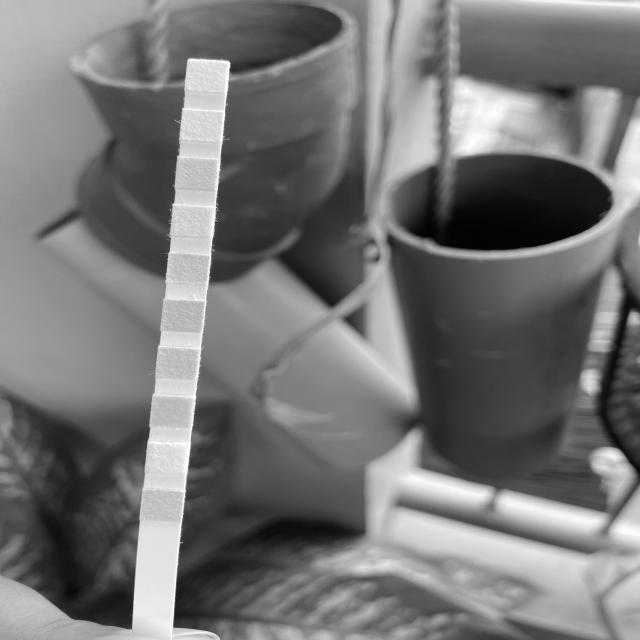Bilirubin: (147, 443, 187, 473)
Blood: (163, 301, 202, 331)
Glucose: (142, 490, 182, 520)
Ketone: (153, 396, 193, 425)
Leukocytes: (187, 62, 228, 92)
Nitrite: (182, 111, 222, 141)
Protein: (173, 206, 213, 236)
SpGravity: (158, 348, 198, 378)
Urobilinogen: (177, 160, 218, 189)
background: (0, 0, 640, 640)
pH: (168, 255, 209, 282)
strip: (133, 58, 230, 619)
